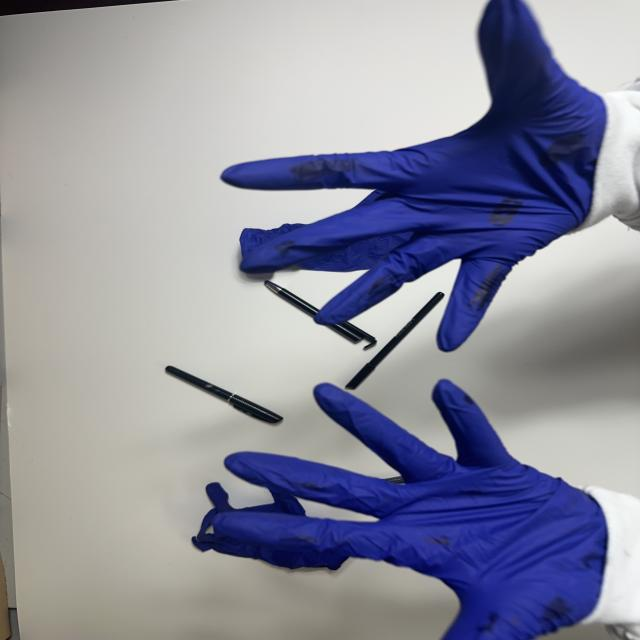gloves_contaminated: (222, 0, 607, 351), (204, 380, 629, 640)
